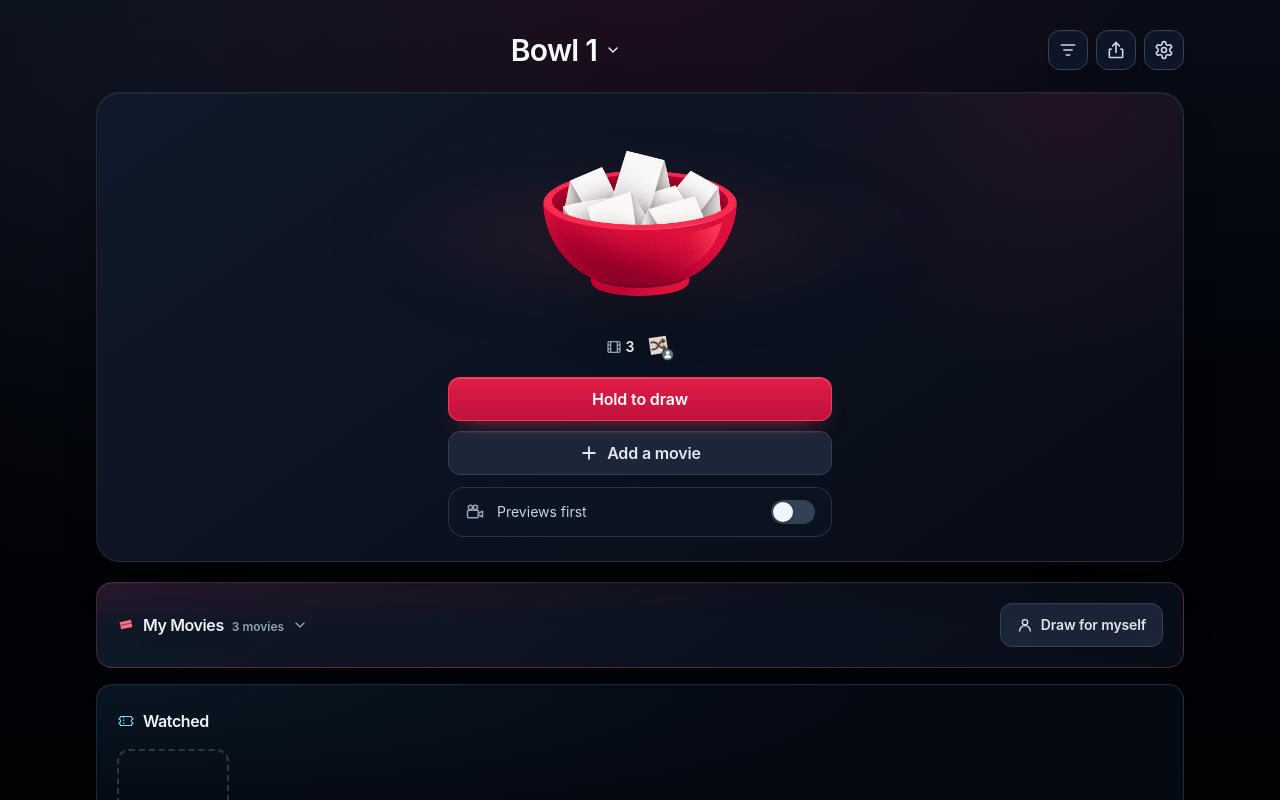
BowlDashboard streaming match count › opens the filter panel so the count leads to the control that changes it
Check: the text "Bowl 1" is shown, box [511,32,597,68]
Check: the checkbox labelled "favor my services" is not shown
Click the button named "drawing from": coordinates (620, 347) [606,339,634,355]
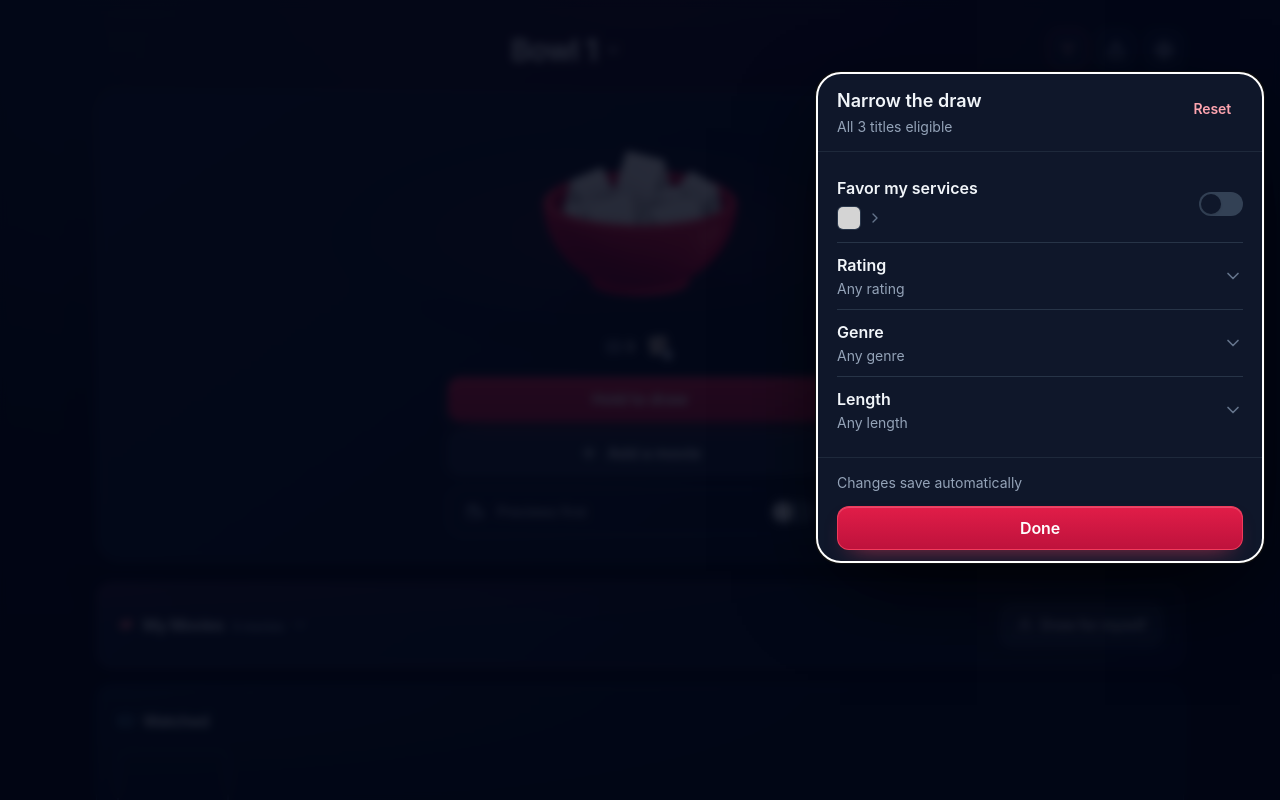
Check: the checkbox named "favor my services" is shown, box [1198,196,1214,212]
